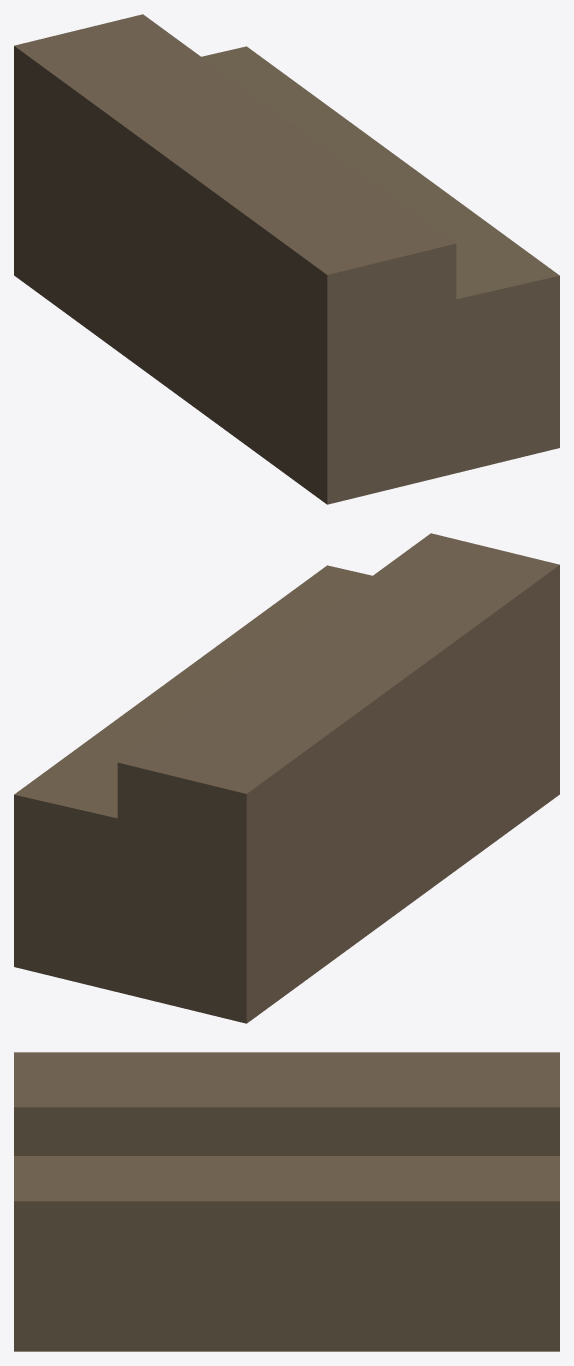
The model's file is Counter.fbx.
3 views of the same model, one above another, from view 1: azimuth 30°, elevation 25°; view 2: azimuth 150°, elevation 25°; view 3: azimuth 270°, elevation 25° (orthographic). The views are drawn at different scales.
Parts seen in each view (by area): view 1: Counter; view 2: Counter; view 3: Counter.
Part boxes in pixels (<box>): Counter: <box>14,14,559,504</box>; Counter: <box>14,533,559,1023</box>; Counter: <box>14,1052,559,1351</box>.
Bounding box in the file's own units: 258 × 243 × 601.
